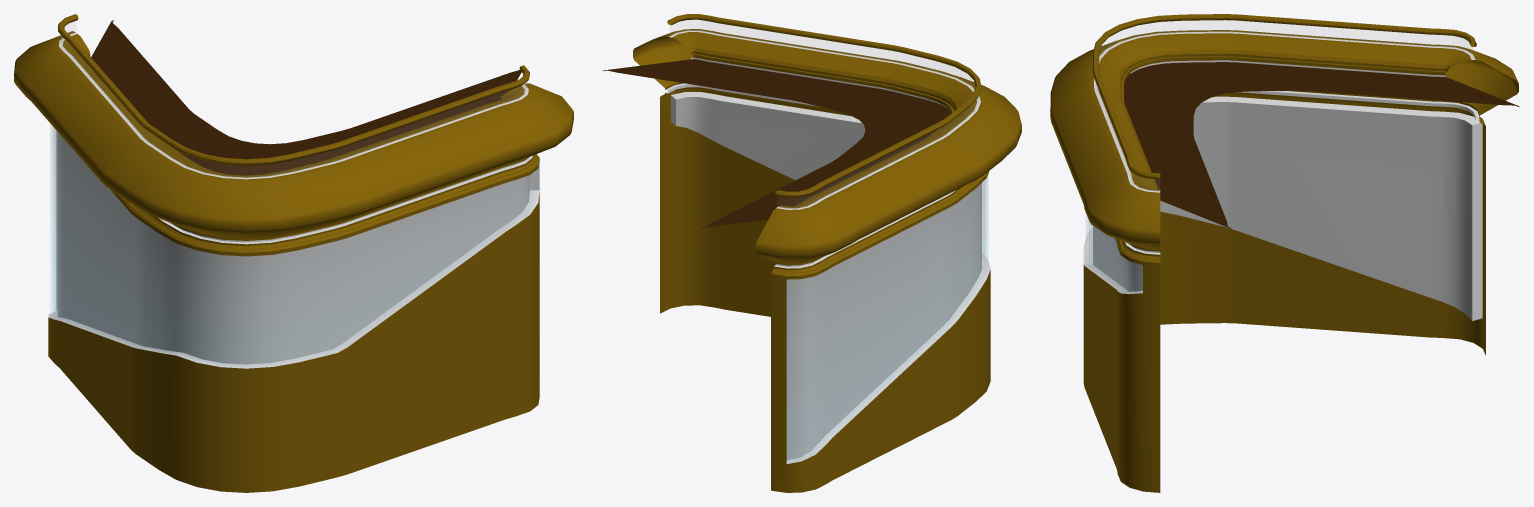
Rendered from CornerPlanter.fbx.
The picture shows the model from 3 angles, left to right: view 1: azimuth 30°, elevation 25°; view 2: azimuth 150°, elevation 25°; view 3: azimuth 270°, elevation 25°; orthographic projection. The views are drawn at different scales.
Parts seen in each view (by area): view 1: Plane.001; view 2: Plane.001; view 3: Plane.001.
Part boxes in pixels (left/top/right/bottom): Plane.001: left=14, top=14, right=573, bottom=492; Plane.001: left=602, top=14, right=1021, bottom=492; Plane.001: left=1050, top=14, right=1519, bottom=492.
Bounding box in the file's own units: 1481 × 1093 × 1483.
